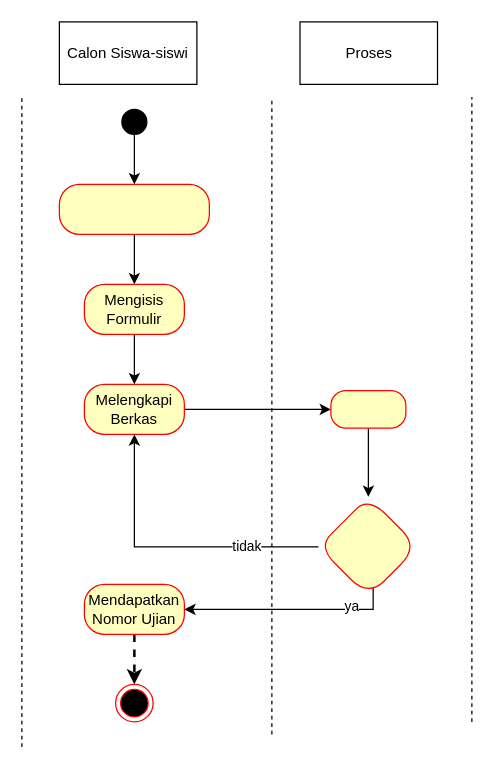
Some shapes in this 495 by 770 pixel diagram are drawn without their labels. The centre of each missing label's shape, as x and y in pixels:
"Lengkap" belongs at (x=367, y=546).
"Mendaftar" belongs at (x=368, y=408).
"Menerima Formulir Pendaftaran" belongs at (x=133, y=208).
